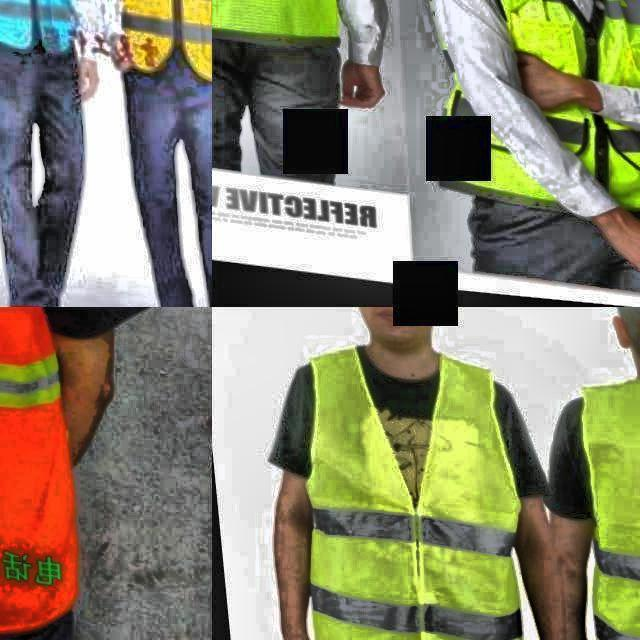safety_jacket: (286, 349, 513, 640), (439, 0, 640, 211), (566, 383, 640, 640), (0, 307, 71, 549), (96, 0, 212, 88), (0, 0, 79, 70)
